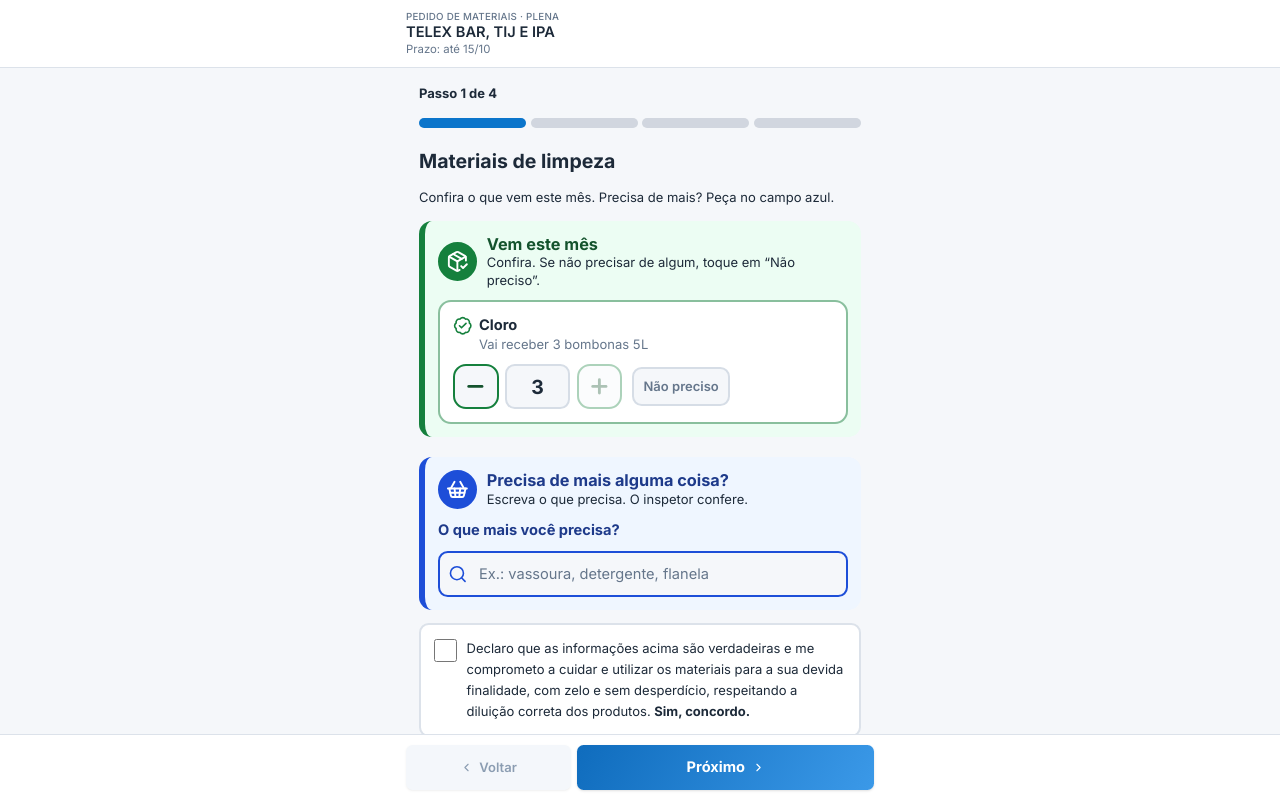
PedidoLiderPage (tela pública do líder) › item do kit achado na busca cria linha EXTRA separada ("a mais"), com motivo opcional, e envia sem motivo
This screenshot has width=1280, height=800.
Check: the heading "Vem este mês" is shown, box x1=487 y1=234 x2=598 y2=254
Type "cloro" into the field labelled "O que mais você precisa?" at (643, 574), box x1=438 y1=551 x2=848 y2=597
(page scrolled)
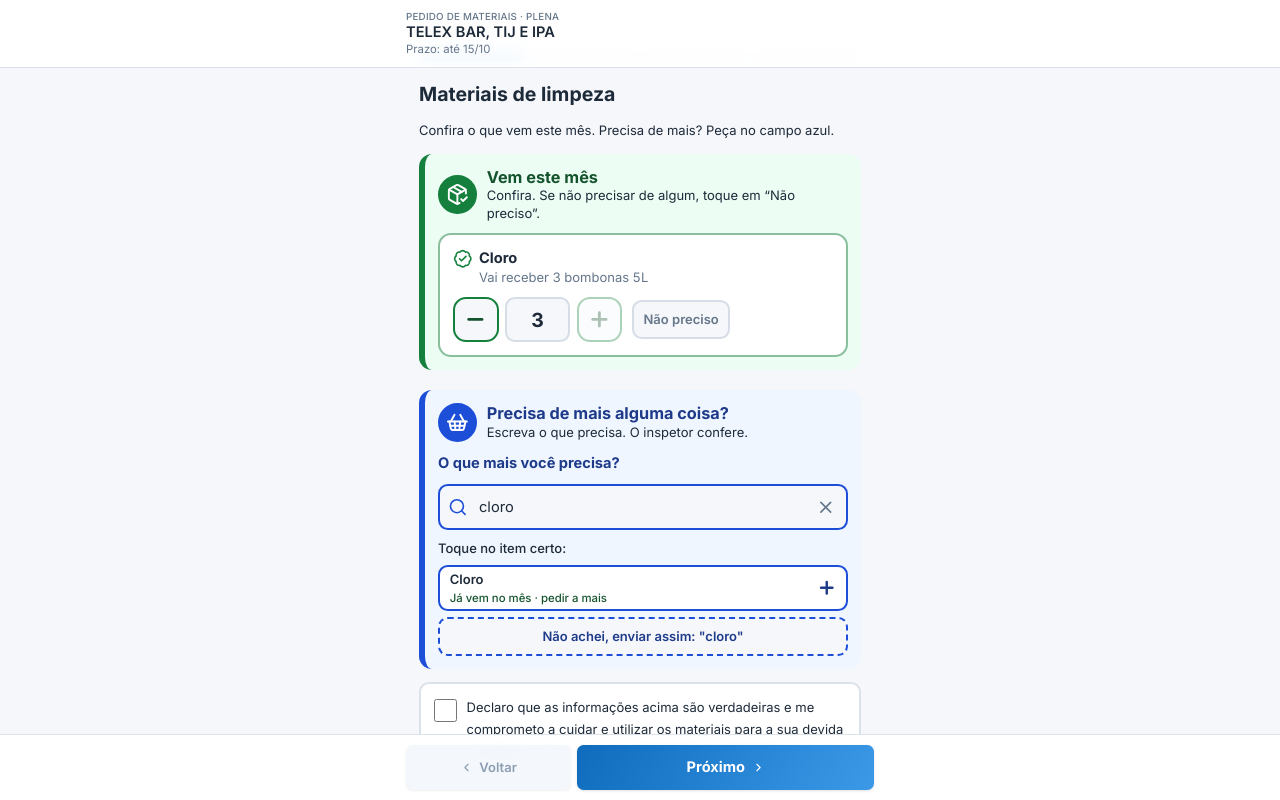
Check: the text "Já vem no mês · pedir a mais" is shown, box x1=450 y1=590 x2=607 y2=606
Click the button "Cloro Já vem no mês · pedir a mais" at (467, 579), box x1=438 y1=566 x2=848 y2=611
(page scrolled)
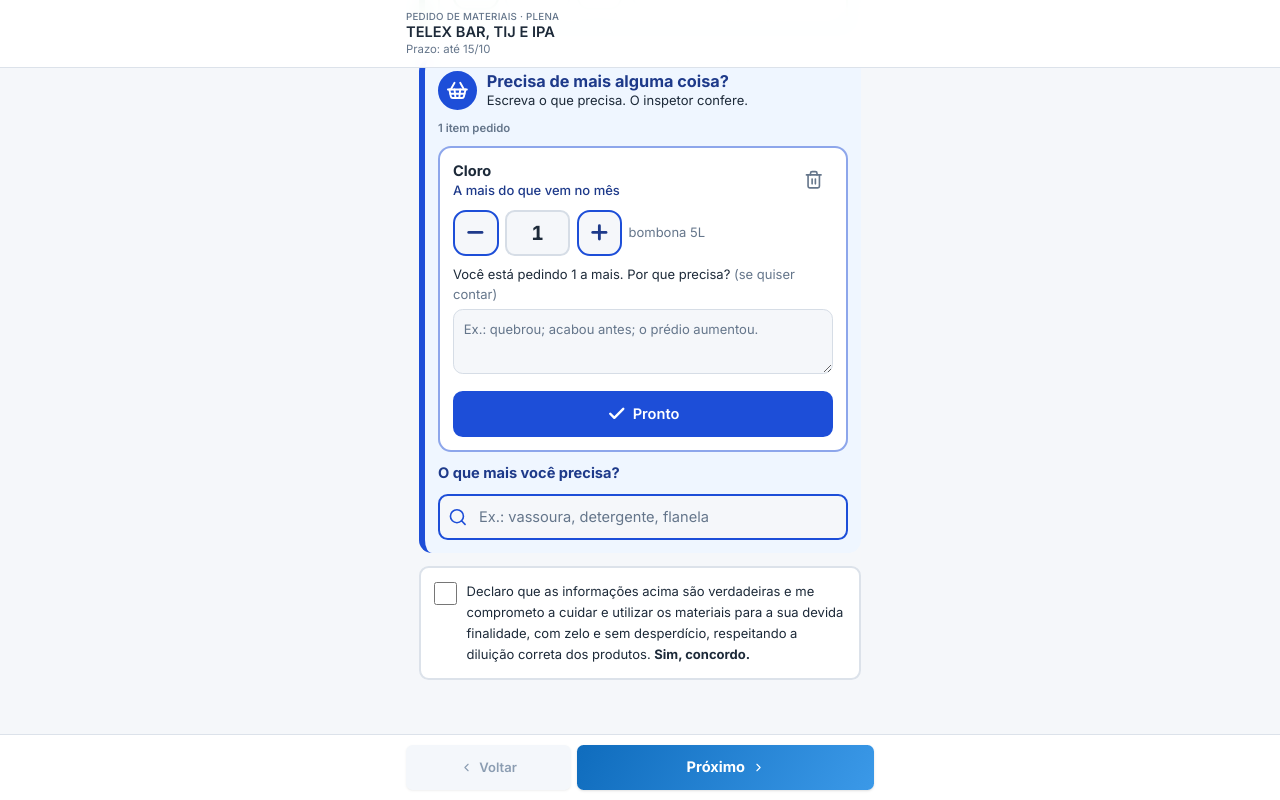
Check: the text "A mais do que vem no mês" is shown, box x1=453 y1=181 x2=620 y2=200
Check: the text "Você está pedindo 1 a mais" is shown, box x1=453 y1=266 x2=730 y2=282
Check: the text "(se quiser contar)" is shown, box x1=453 y1=266 x2=795 y2=302
Click the checkbox at (445, 594), box x1=434 y1=582 x2=457 y2=605
(page scrolled)
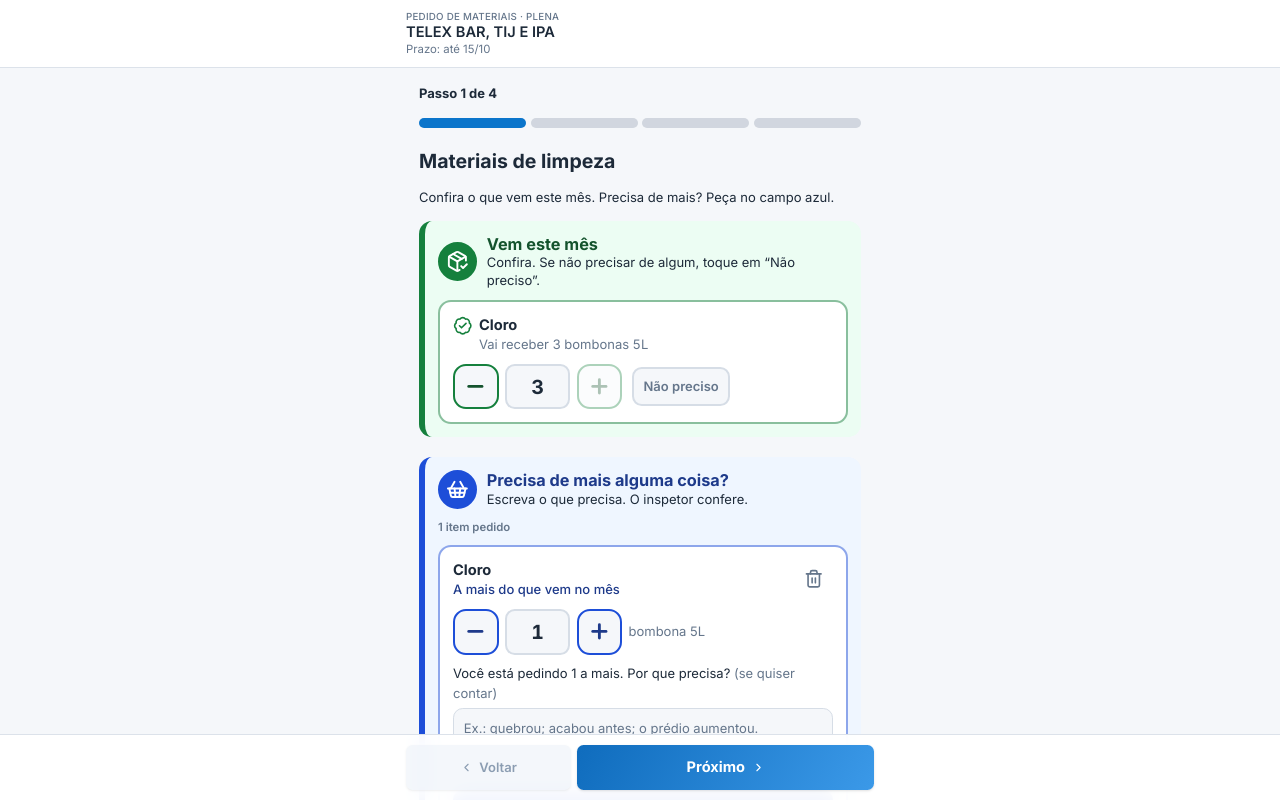
Click the button named "Passo 4: Revisar e enviar" at (808, 123), box x1=754 y1=110 x2=861 y2=136
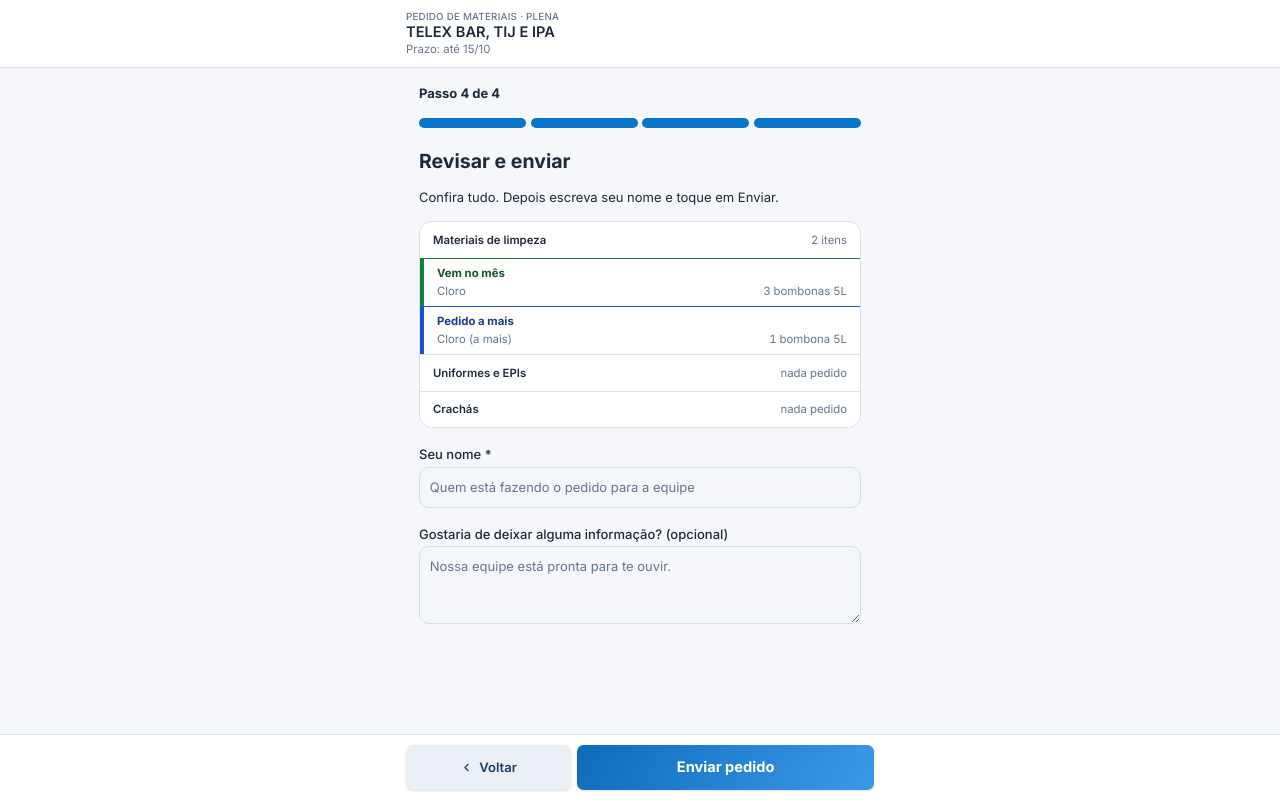
Check: the text "Vem no mês" is shown, box x1=437 y1=266 x2=505 y2=280
Check: the text "Pedido a mais" is shown, box x1=437 y1=314 x2=514 y2=328
Check: the text "Cloro (a mais)" is shown, box x1=437 y1=331 x2=512 y2=347
Type "Ana Souza" into the field labelled "Seu nome *" at (640, 487), box x1=419 y1=467 x2=861 y2=508
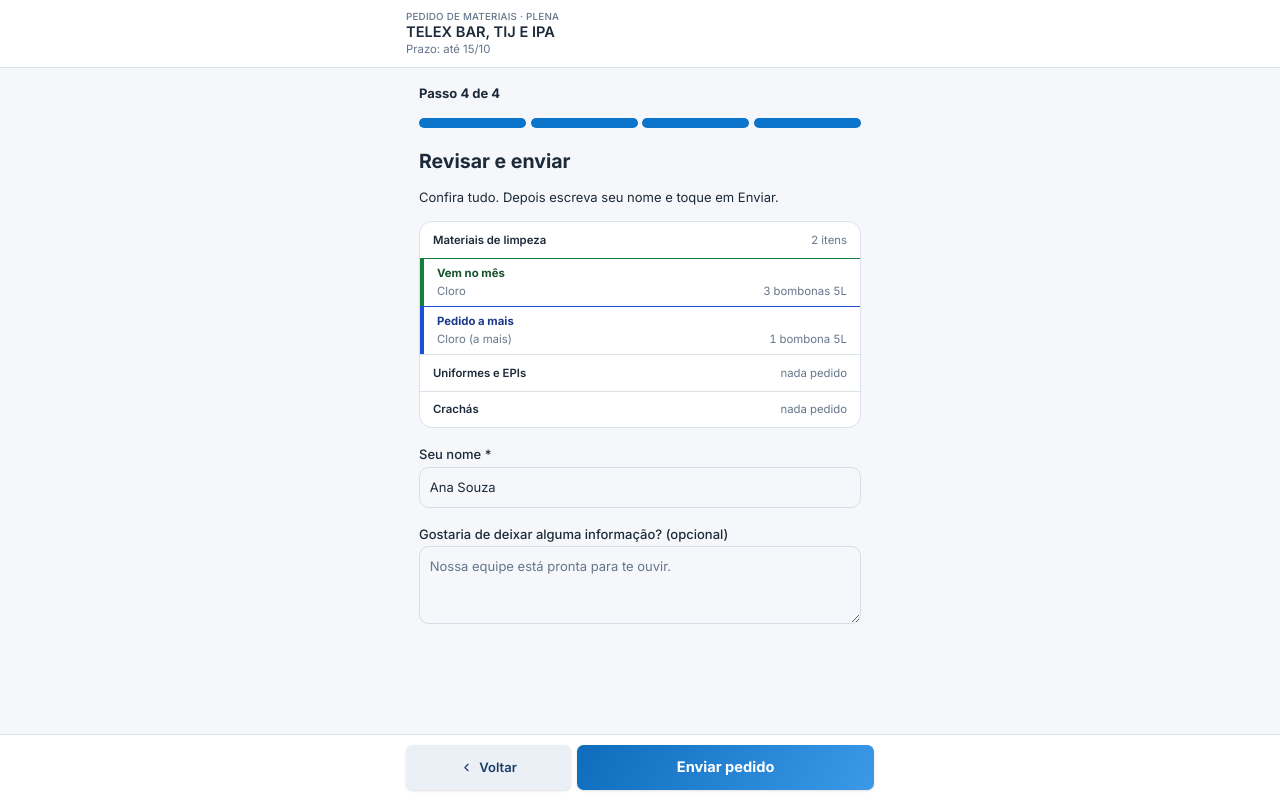
Click the button "Enviar pedido" at (726, 768), box x1=577 y1=745 x2=874 y2=790
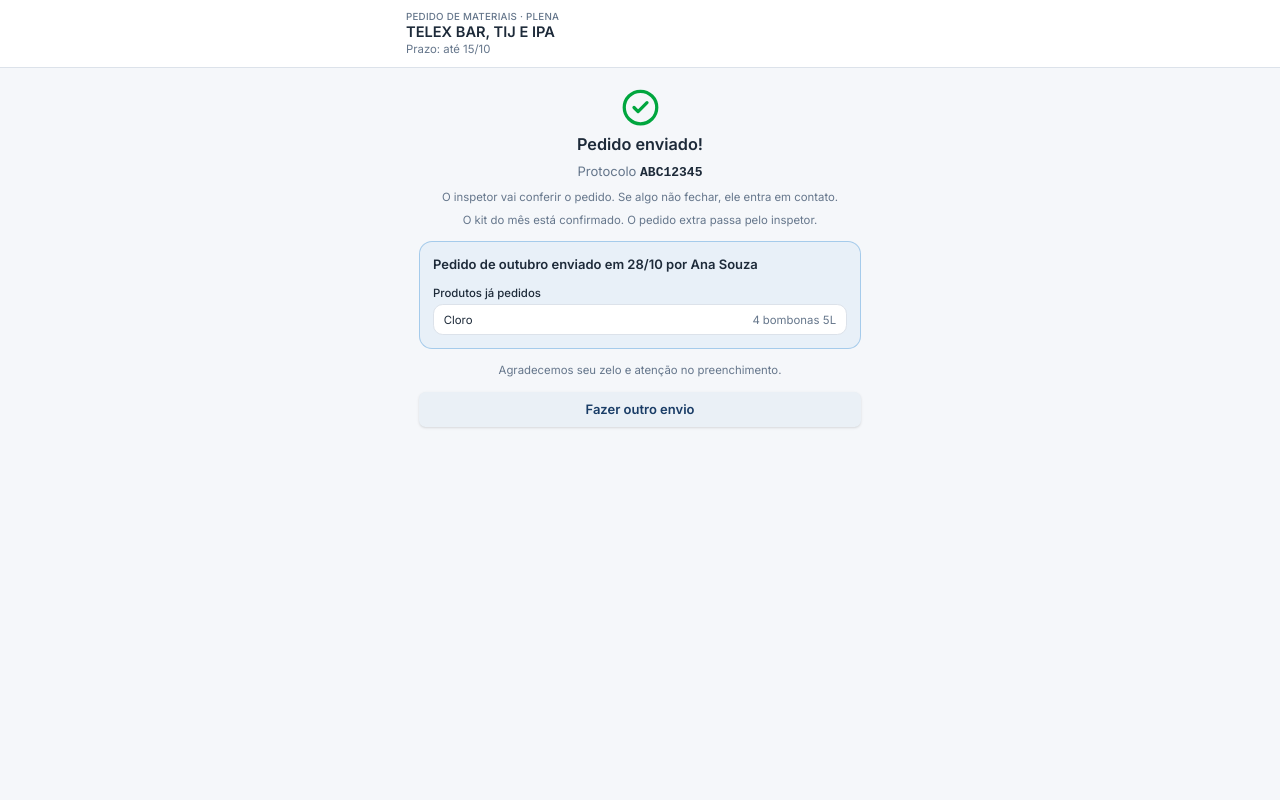
Check: the text "O pedido extra passa pelo inspetor" is shown, box x1=463 y1=213 x2=817 y2=227
